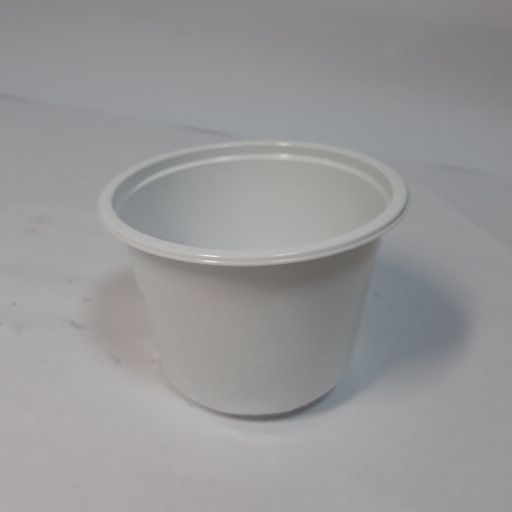Plastic_5: (92, 138, 411, 419)
